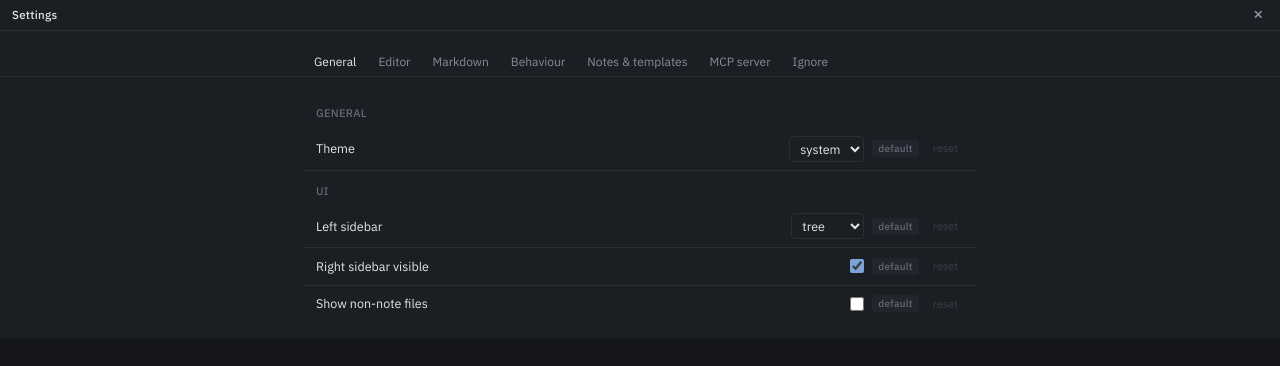
Test: SettingsPanel › disables the new link syntax selector while wikilinks is off
Click the tab "Markdown". click: (461, 62)
box: [422,47,499,77]
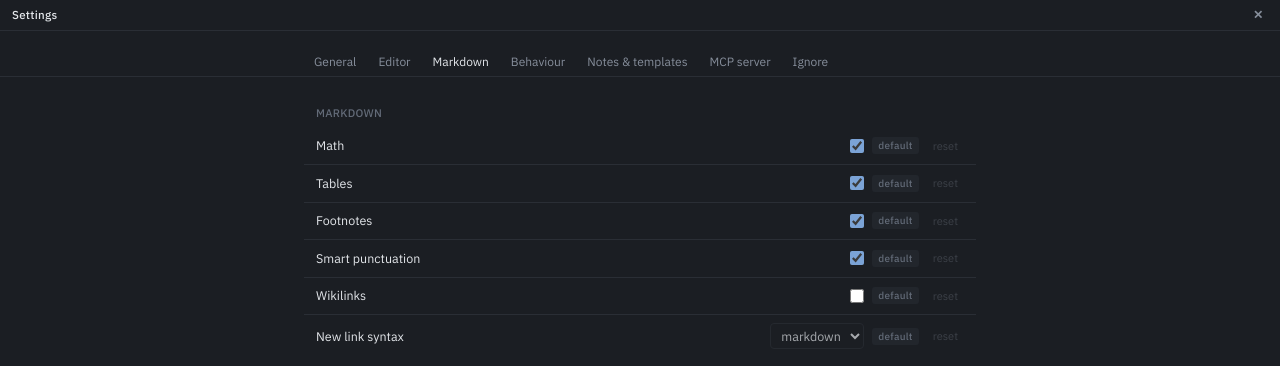
Now the dropdown named "New link syntax" is disabled, box [770,323,864,349]
